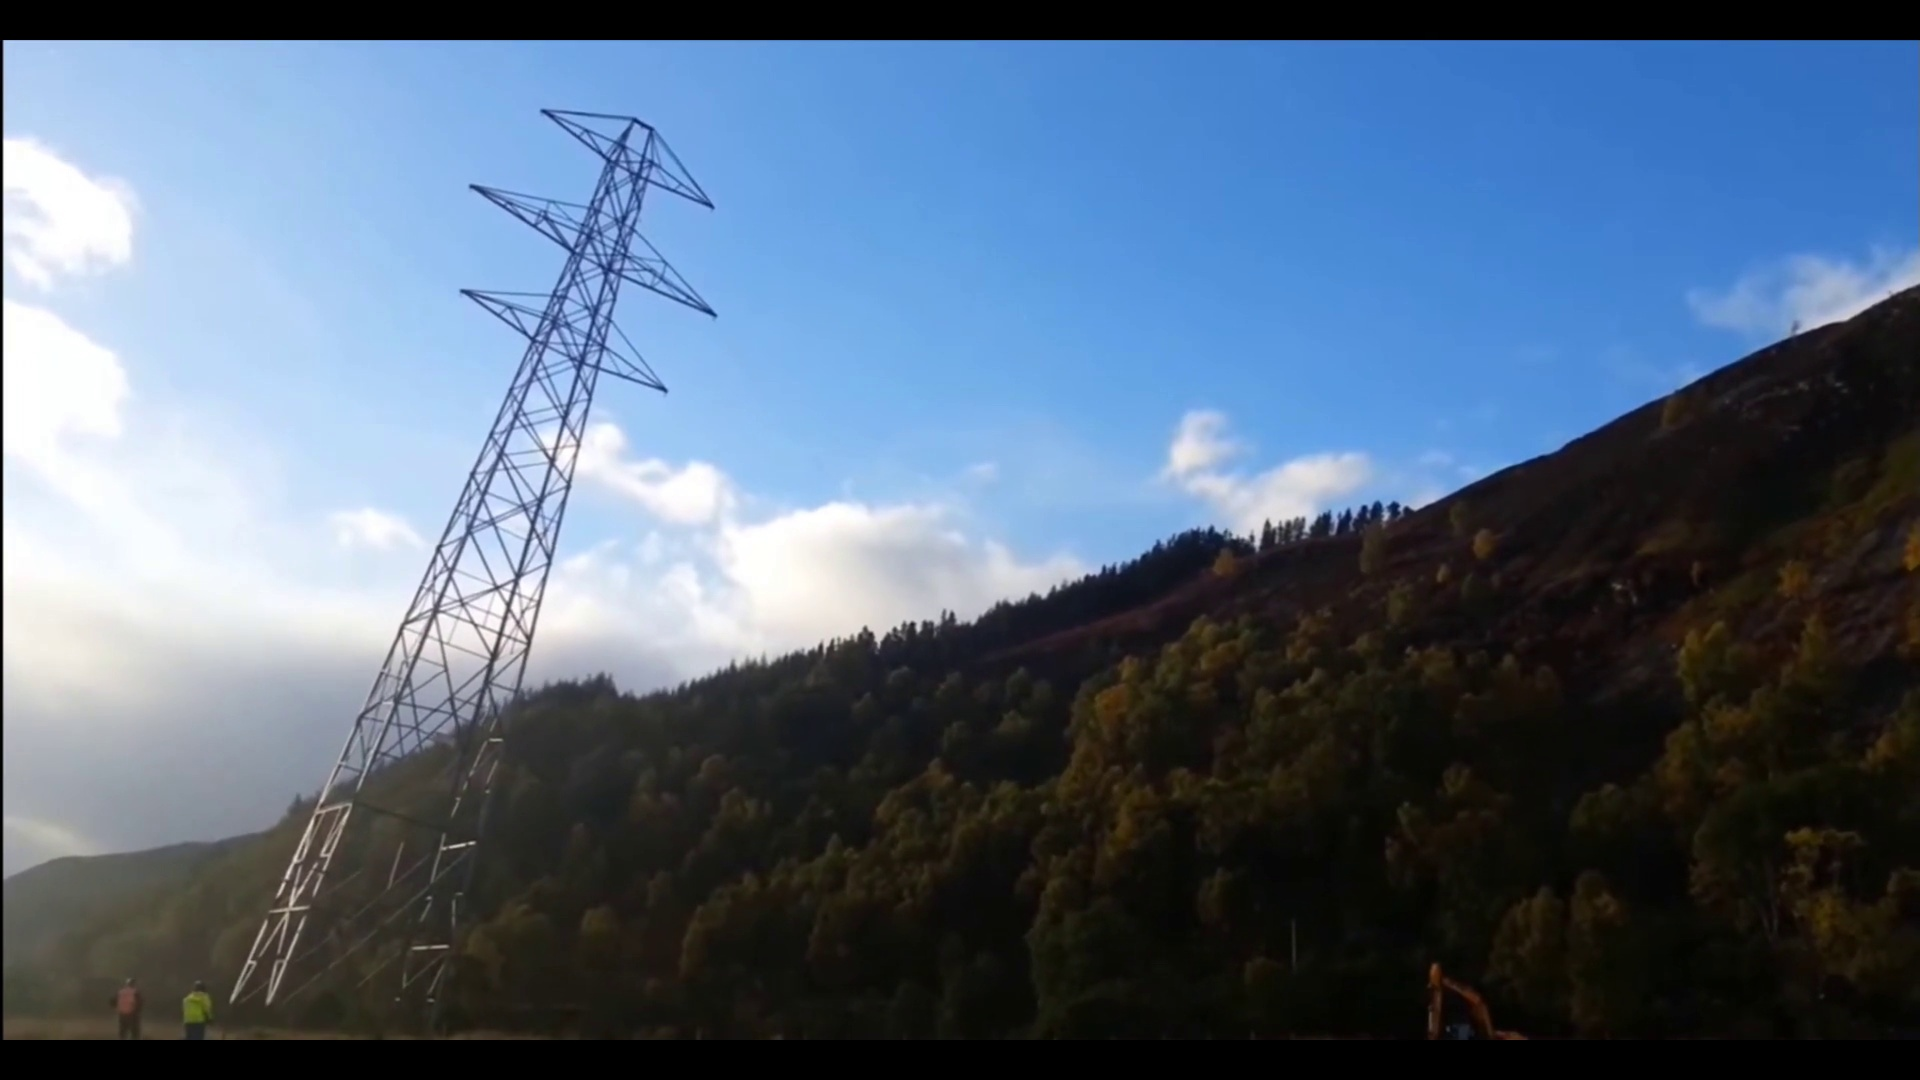tower_up: (244, 66, 728, 1042)
